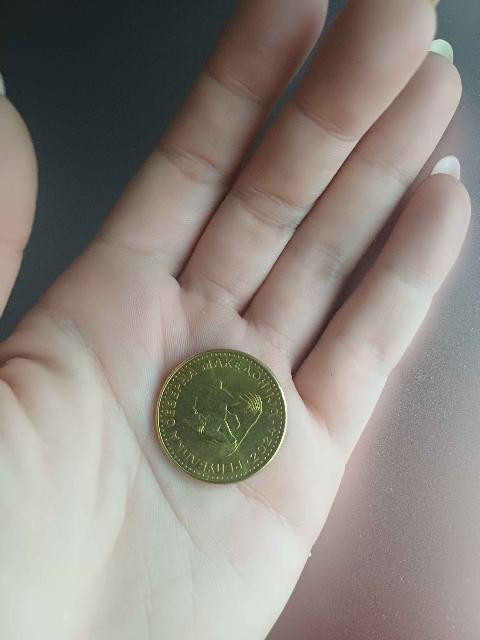coin: (157, 350, 286, 483)
